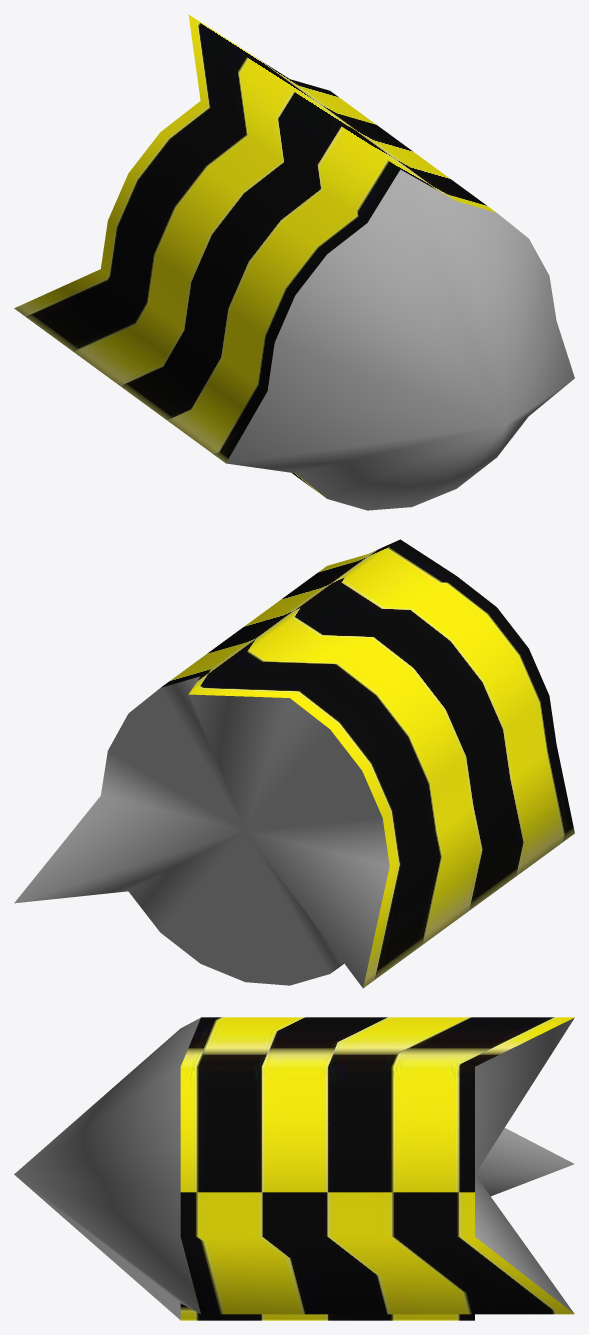
Rendered from bullet.fbx.
3 renders of one model, top to bottom at view 1: azimuth 30°, elevation 25°; view 2: azimuth 150°, elevation 25°; view 3: azimuth 270°, elevation 25°, orthographic. The views are drawn at different scales.
Parts seen in each view (by area): view 1: pCylinder1; view 2: pCylinder1; view 3: pCylinder1.
Part boxes in pixels (x1,y1,x2,y2): pCylinder1: (14,15,574,510); pCylinder1: (14,539,574,988); pCylinder1: (14,1017,574,1320).
Size of the model in its own units: 2.42 by 2.18 by 3.81.
2 materials, 1 textured.
